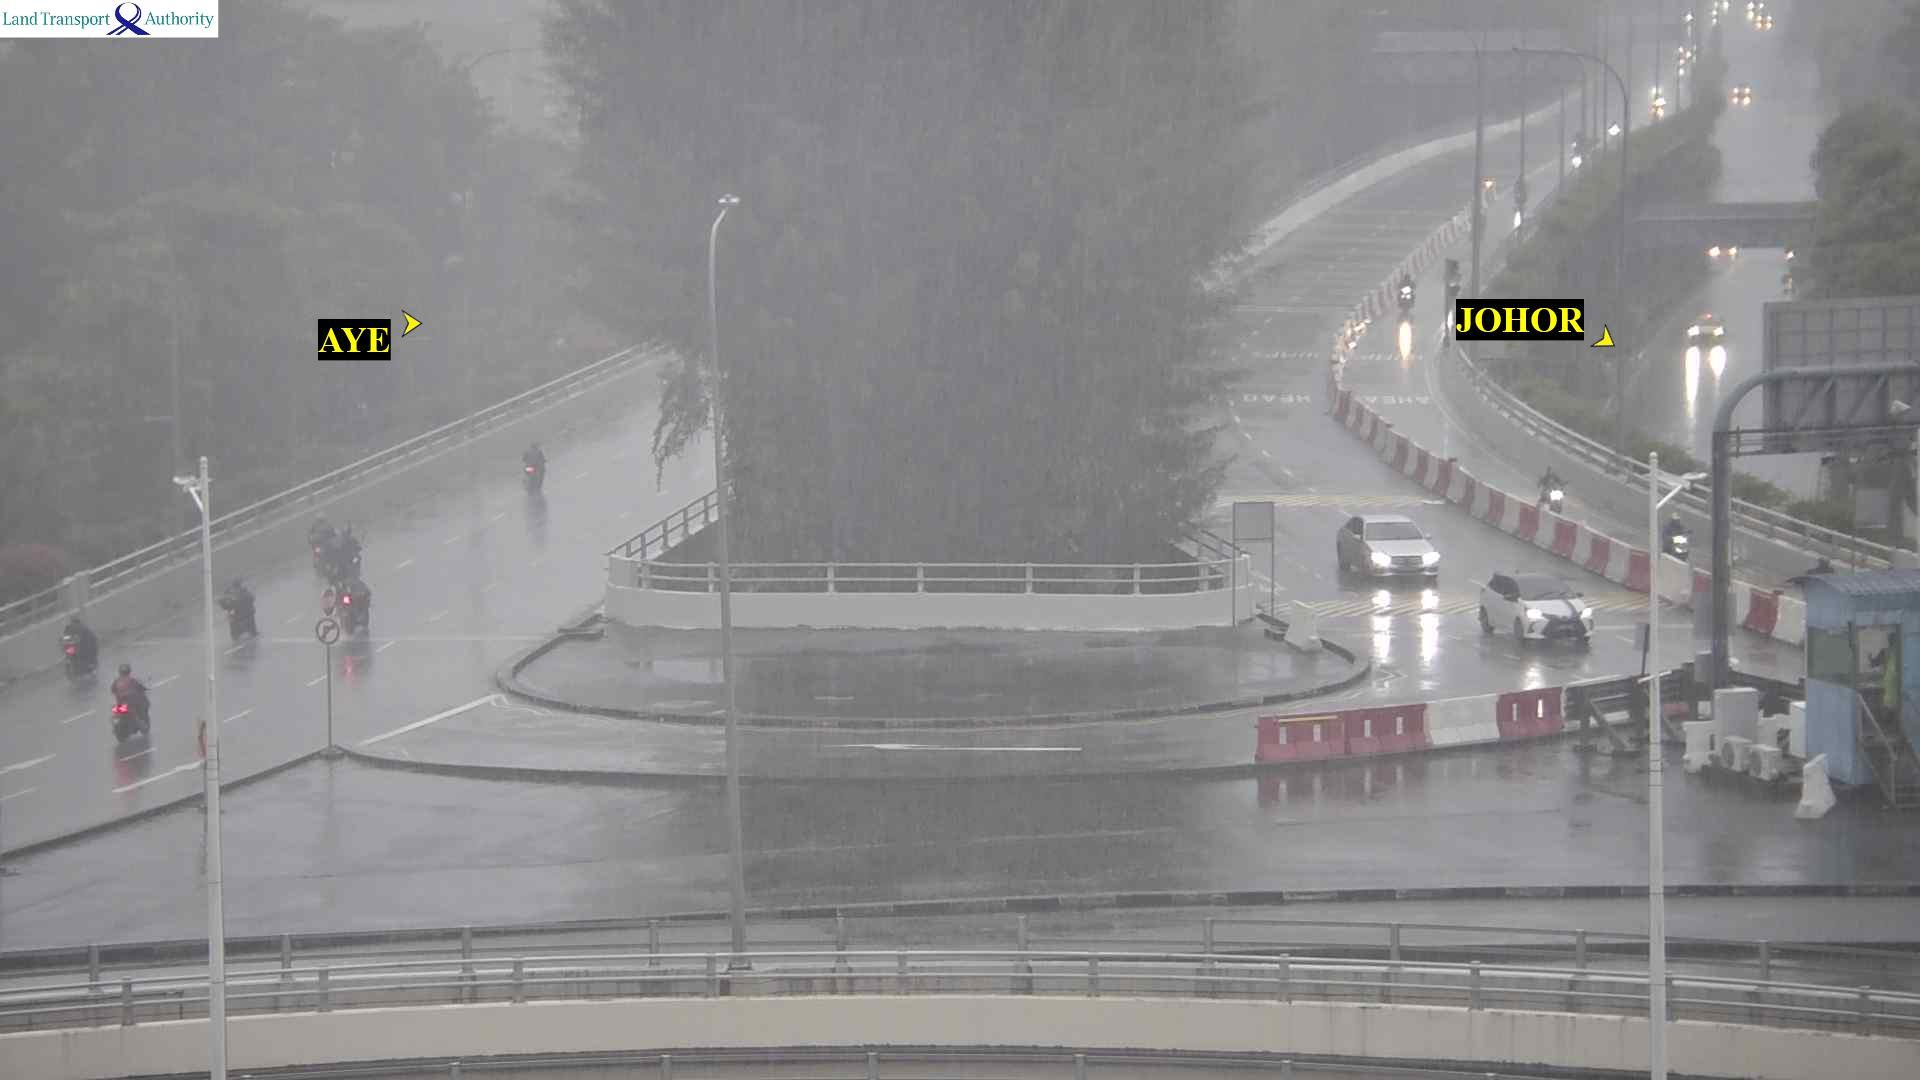vehicle-secondlink-johor: (1478, 570, 1594, 651), (1340, 510, 1433, 588), (1664, 514, 1690, 558), (1538, 467, 1564, 509), (1445, 258, 1462, 293), (1398, 273, 1414, 310)
vehicle-secondlink-singapore: (115, 664, 155, 740), (62, 609, 106, 672), (222, 575, 262, 638), (325, 529, 363, 580), (333, 581, 370, 631), (521, 440, 545, 491), (310, 517, 332, 565)
